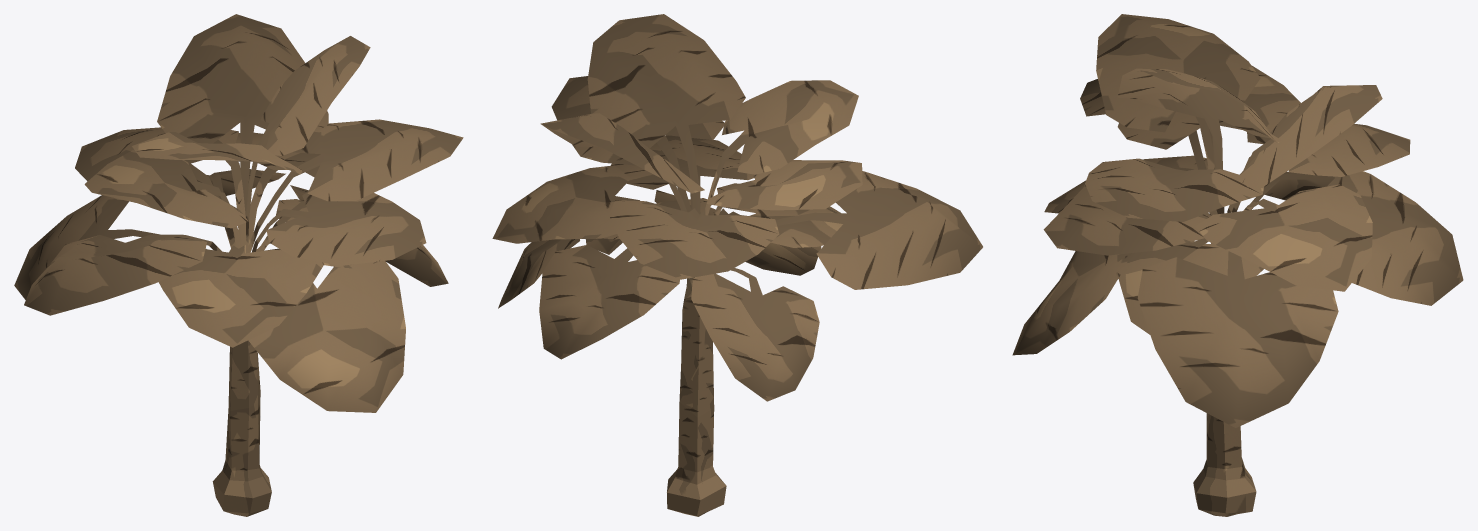
File: SM_Env_Tree_Palm_Small_02.fbx
3 views of the same model, side by side, from view 1: azimuth 30°, elevation 25°; view 2: azimuth 150°, elevation 25°; view 3: azimuth 270°, elevation 25° (orthographic). The views are drawn at different scales.
Visible parts, largest first — view 1: SM_Env_Tree_Palm_Small_02_LOD0; view 2: SM_Env_Tree_Palm_Small_02_LOD0; view 3: SM_Env_Tree_Palm_Small_02_LOD0.
Boxes of the visible parts, x1=… form: SM_Env_Tree_Palm_Small_02_LOD0: x1=14, y1=14, x2=463, y2=516; SM_Env_Tree_Palm_Small_02_LOD0: x1=492, y1=14, x2=982, y2=516; SM_Env_Tree_Palm_Small_02_LOD0: x1=1012, y1=14, x2=1463, y2=516.
Size of what is drawn, in the model's own units: 716 by 724 by 608.
